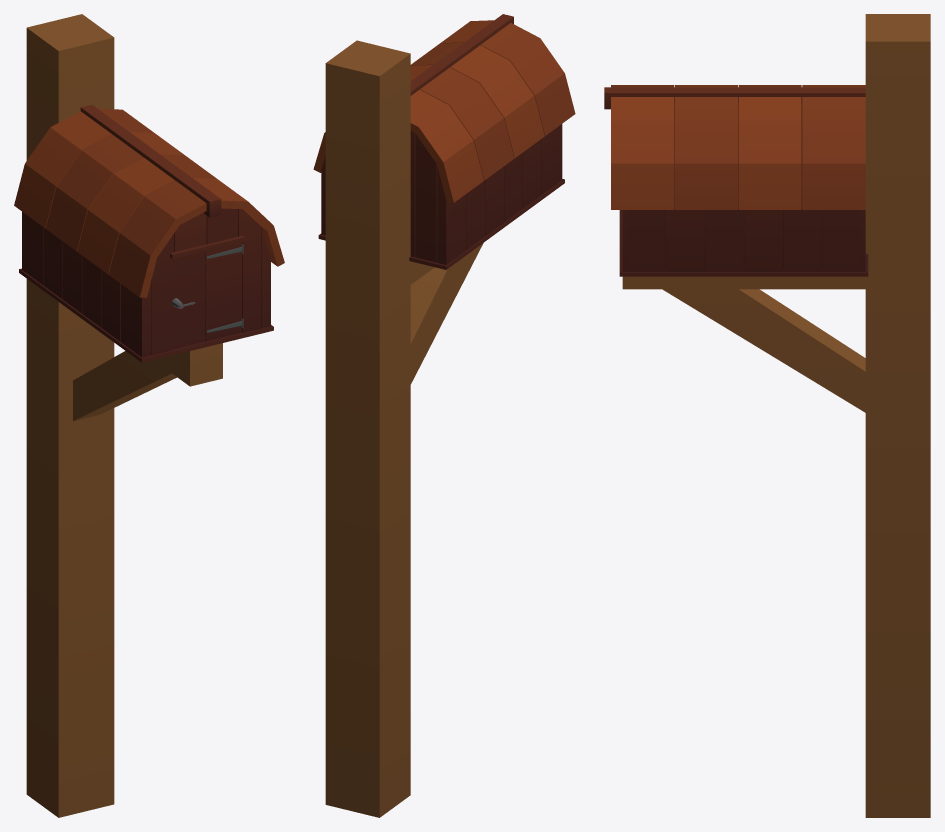
The model's file is Prop_Letterbox_03.obj.
3 views of the same model, side by side, from view 1: azimuth 30°, elevation 25°; view 2: azimuth 150°, elevation 25°; view 3: azimuth 270°, elevation 25° (orthographic). The views are drawn at different scales.
Visible parts, largest first — view 1: Prop_Letterbox_03, Prop_Letterbox_Door_03; view 2: Prop_Letterbox_03; view 3: Prop_Letterbox_03.
Boxes of the visible parts, box(x1,y1,x2,y2) form: Prop_Letterbox_03: box(14, 14, 284, 817); Prop_Letterbox_Door_03: box(170, 242, 242, 349); Prop_Letterbox_03: box(313, 14, 575, 817); Prop_Letterbox_03: box(604, 14, 930, 817).
Size of the model in its own units: 0.2861 by 1.44 by 0.5498.
Materials: 1 (1 with a texture image).
